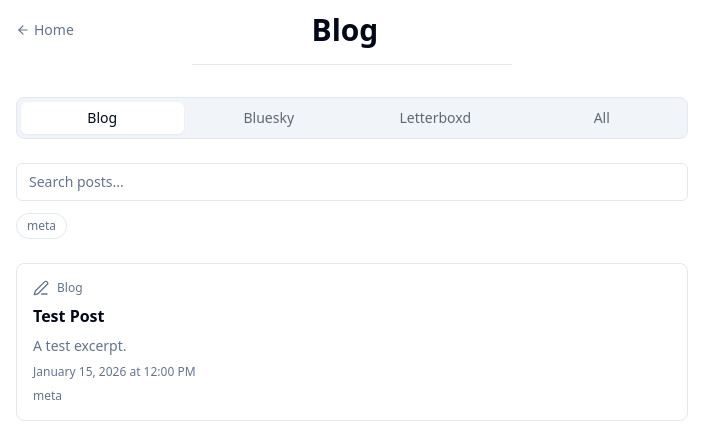
Test: BlogPage › filters blog posts by search query
Type "nonexistent" into the search field.
click(352, 182); type("nonexistent")  # box 16,163 -> 688,201
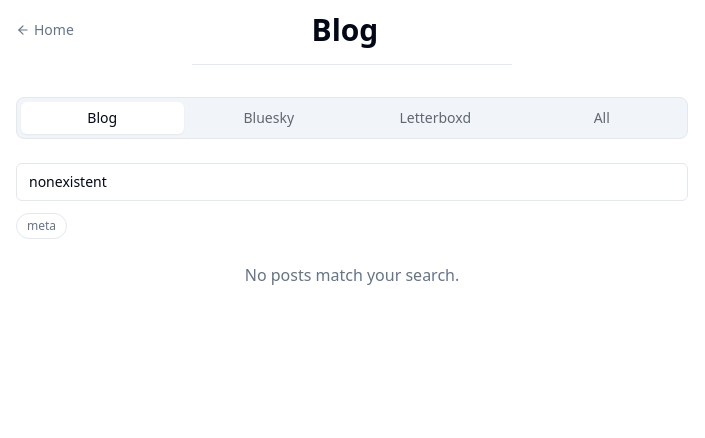
Check: the link "Test Post" is gone
Check: the text "No posts match your search." is shown, box 245,264 -> 459,286
